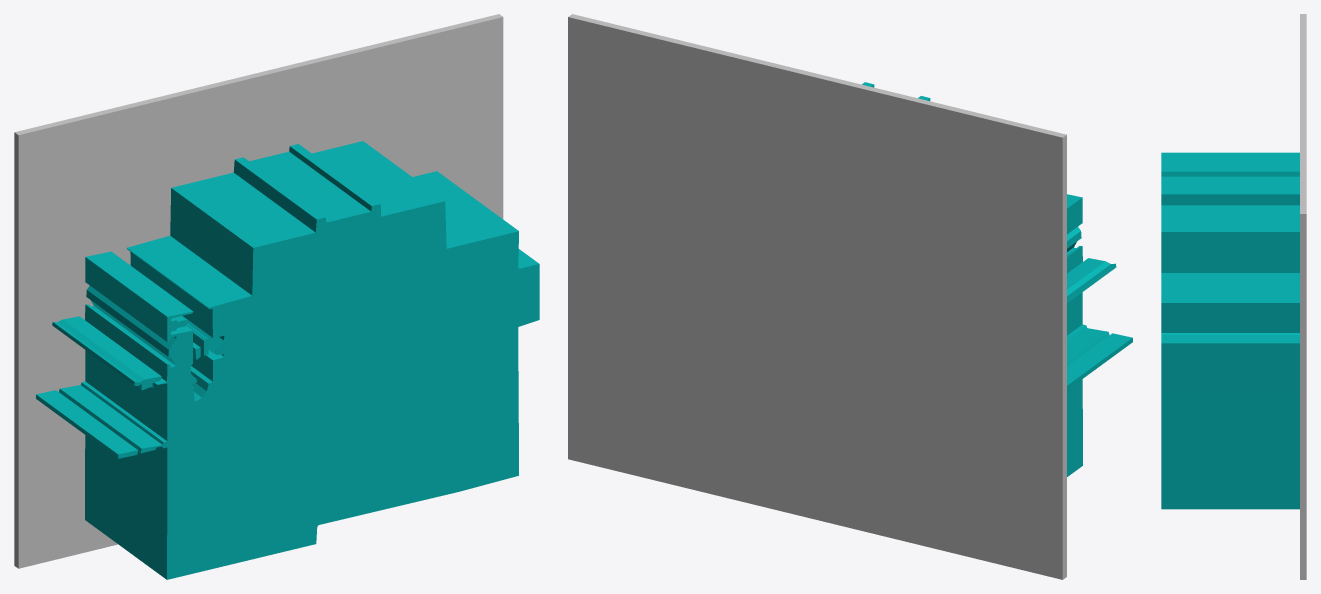
The picture shows the model from 3 angles, left to right: view 1: azimuth 30°, elevation 25°; view 2: azimuth 150°, elevation 25°; view 3: azimuth 270°, elevation 25°; orthographic projection. The views are drawn at different scales.
Visible parts, largest first — view 1: world; view 2: world; view 3: world.
Boxes of the visible parts, x1=… form: world: x1=14, y1=14, x2=539, y2=579; world: x1=568, y1=14, x2=1132, y2=579; world: x1=1161, y1=14, x2=1306, y2=579.
Size of the model in its own units: 10.23 by 8.74 by 3.15.
